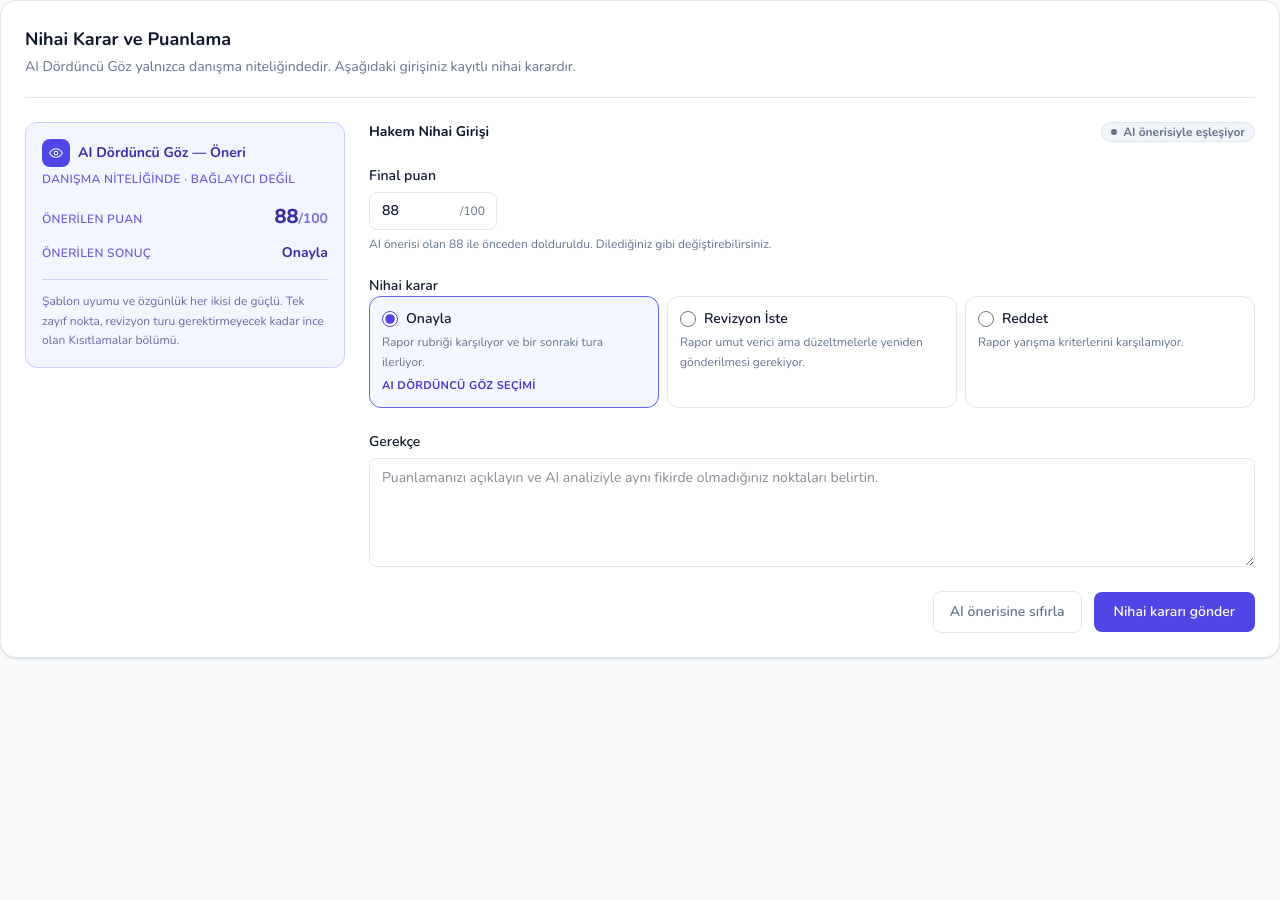
Test: FinalDecisionForm › confirms the recorded decision and notes that the AI was overridden
Replace the text in the number field labelled "Final puan" with "57" at (433, 211), box [369, 192, 497, 230]
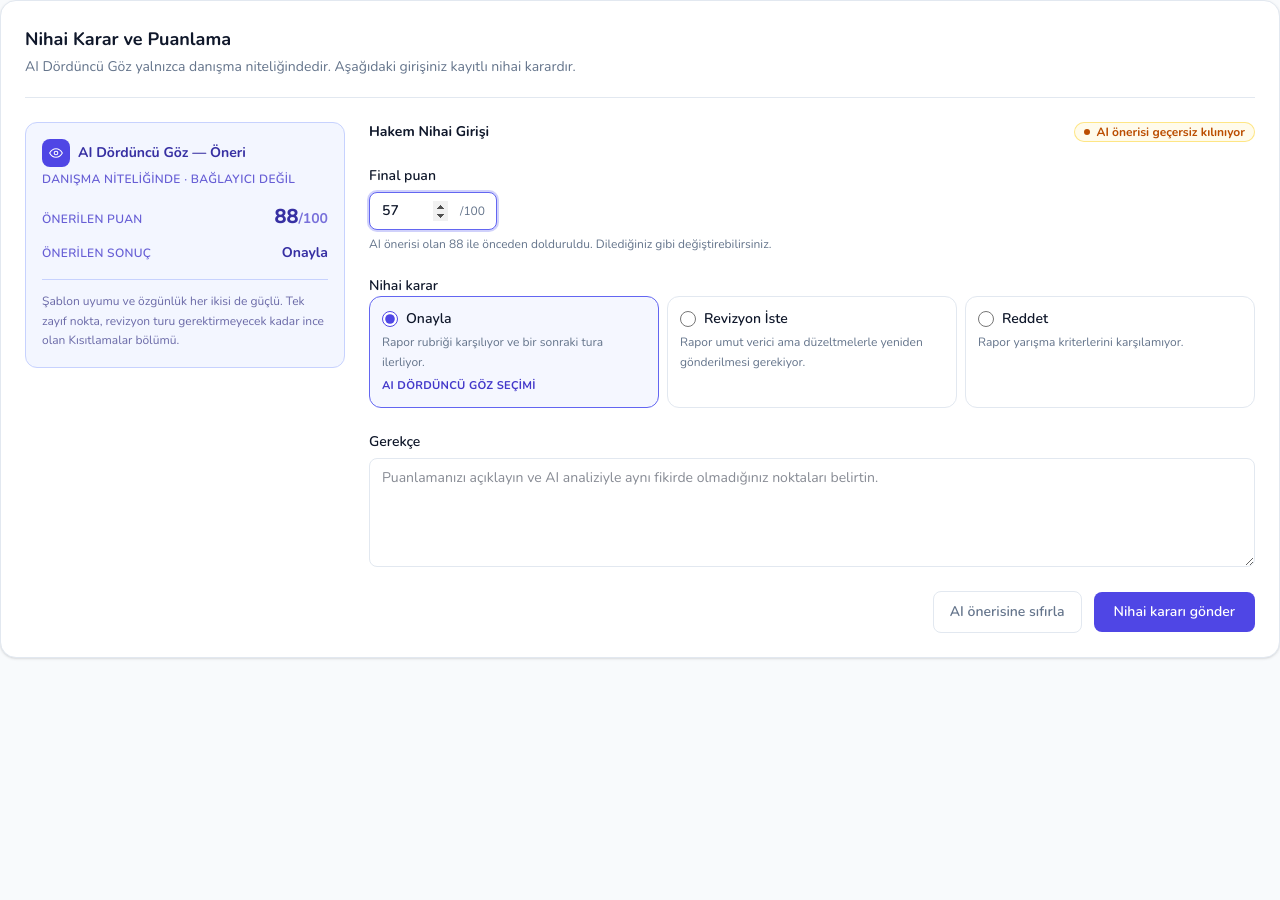
Type "Manually re-read the methodology section; the limitations gap is more serious than the engine judged." into the text box labelled "Gerekçe".
click(812, 512); type("Manually re-read the methodology section; the limitations gap is more serious than the engine judged.")  # box [369, 458, 1255, 567]
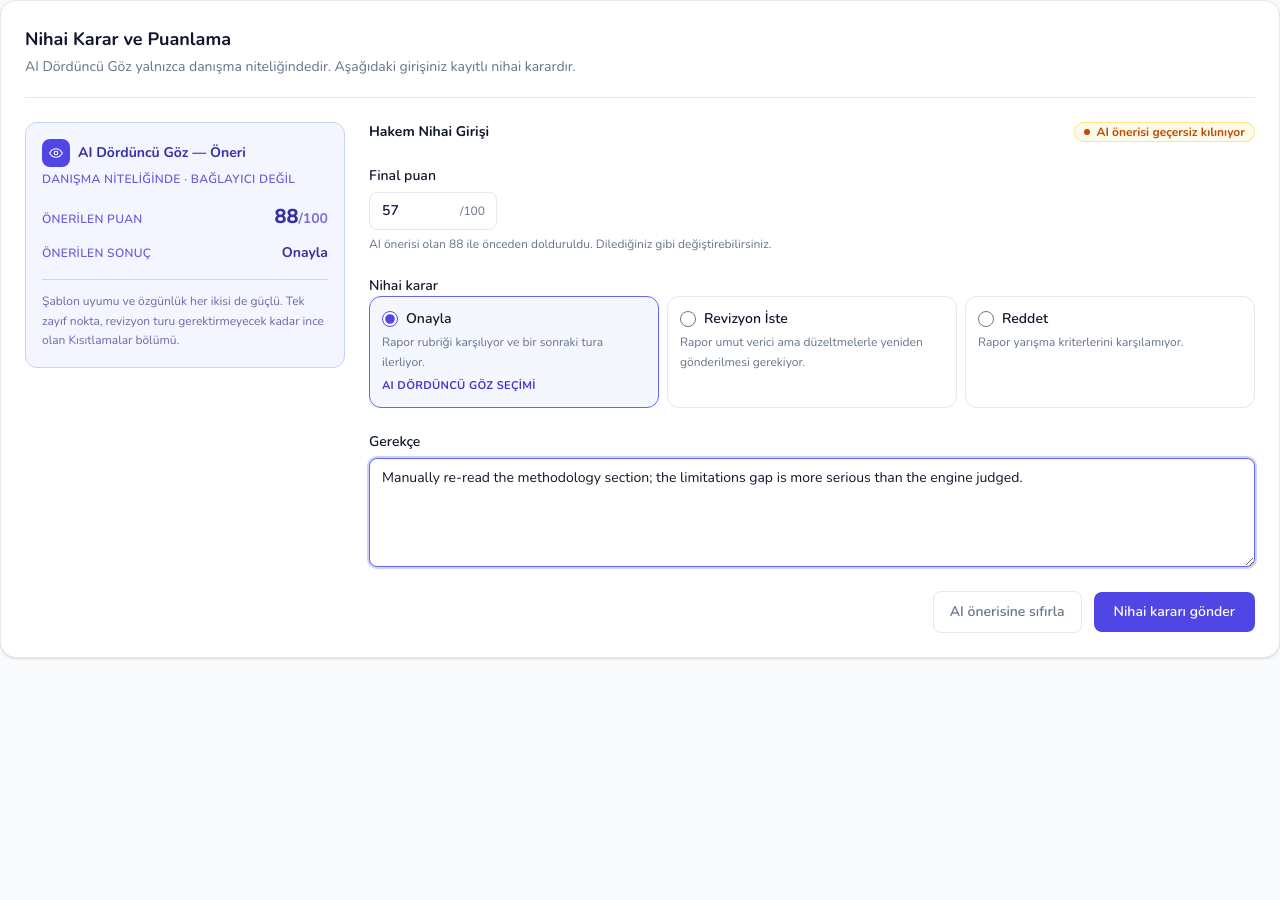
Click the button "Nihai kararı gönder".
click(1174, 612)  # box [1094, 592, 1255, 632]
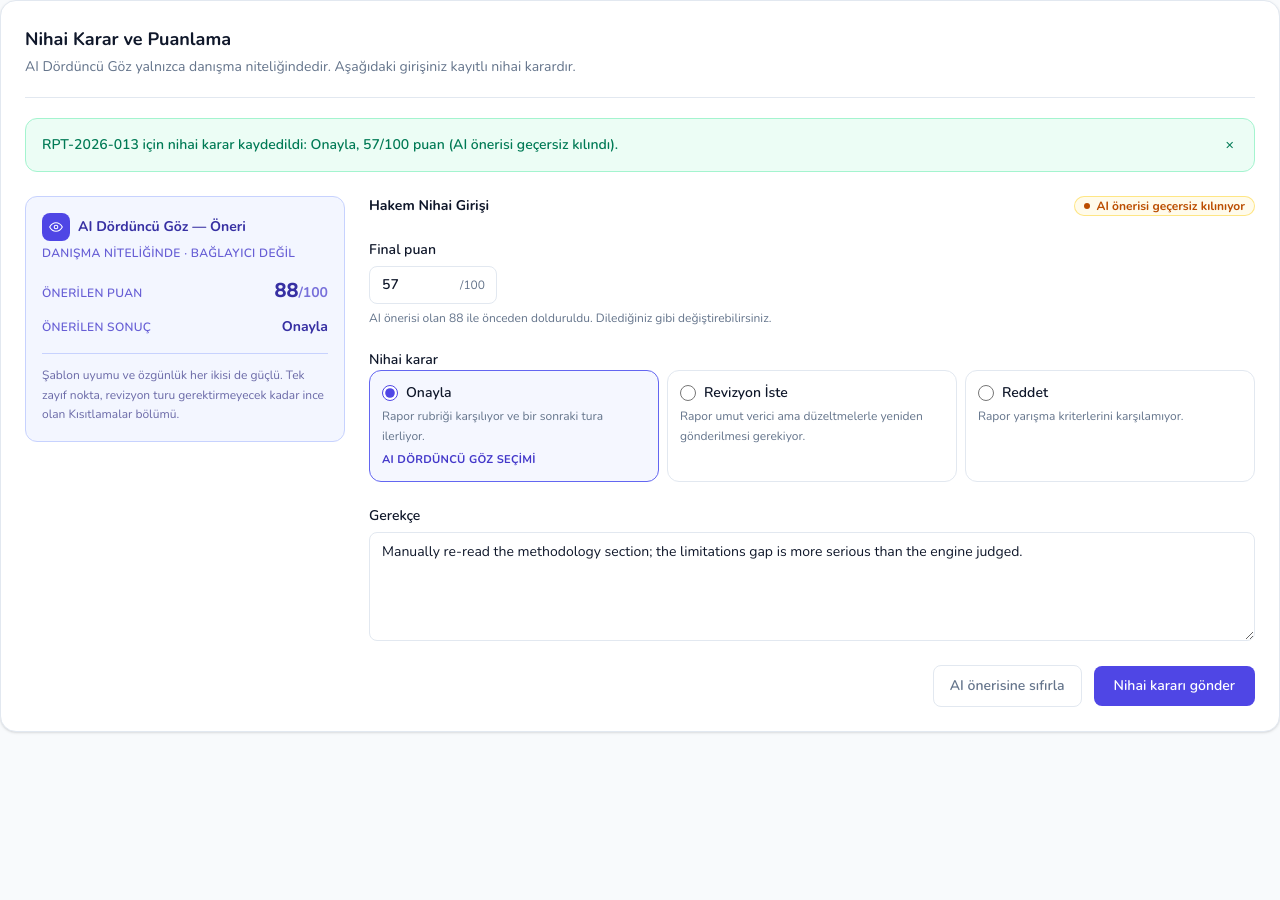
Result: the message with test id "decision-saved-banner" shows "RPT-2026-013" at [42, 135, 139, 154]
Result: the message with test id "decision-saved-banner" shows "57/100" at [25, 118, 1255, 172]
Result: the message with test id "decision-saved-banner" shows "ai önerisi geçersiz kılındı" at [445, 135, 618, 154]
